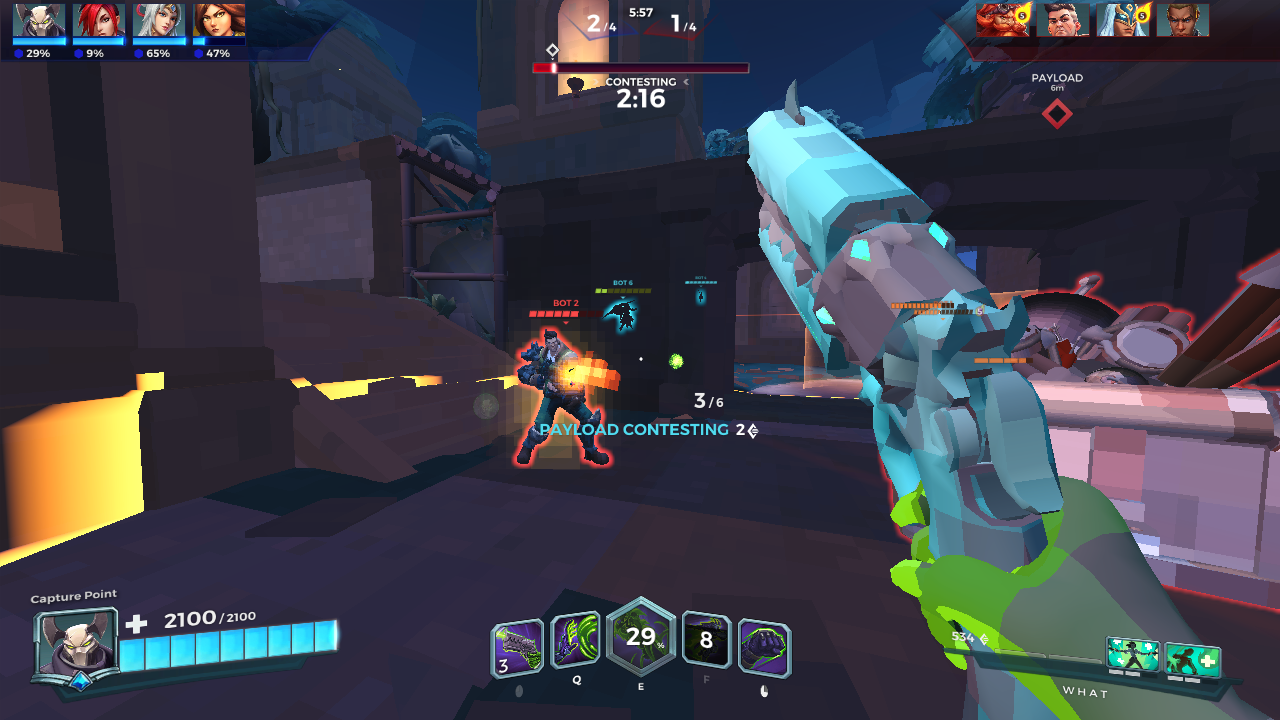model: (519, 327, 620, 487)
